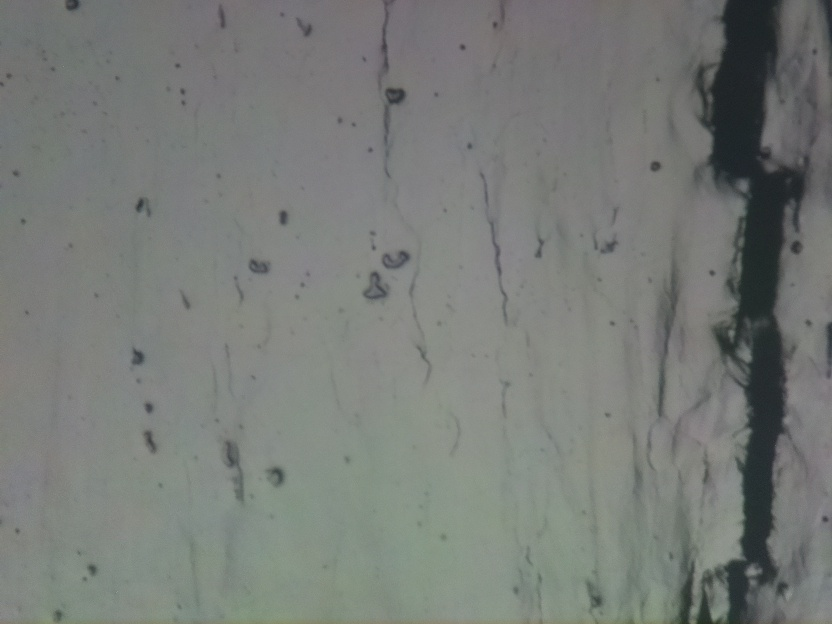crack: (700, 0, 786, 623)
